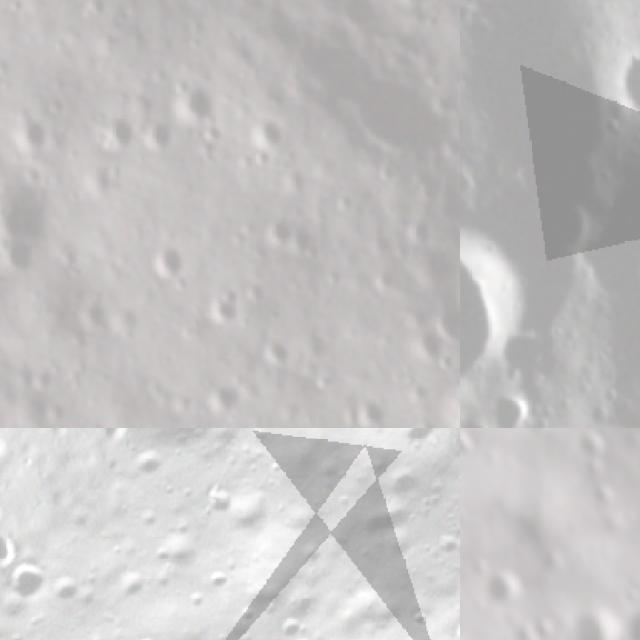crater: (304, 21, 460, 173), (460, 227, 535, 388), (0, 171, 66, 257), (207, 470, 281, 544), (349, 487, 418, 556), (370, 451, 429, 509), (0, 548, 54, 606), (11, 108, 68, 161), (100, 558, 152, 611), (190, 474, 240, 524), (612, 43, 640, 129), (252, 202, 295, 256), (150, 234, 196, 284), (70, 285, 112, 338), (240, 114, 286, 161), (194, 374, 240, 420), (38, 564, 84, 610), (94, 108, 134, 158), (203, 285, 244, 332), (342, 387, 389, 428), (126, 440, 170, 483), (259, 326, 296, 376), (567, 607, 623, 640), (489, 394, 543, 428), (414, 325, 451, 370), (289, 531, 329, 571), (400, 208, 438, 250), (486, 570, 525, 610), (178, 78, 210, 125), (137, 122, 175, 156), (428, 524, 460, 564), (570, 431, 614, 459), (269, 608, 306, 640), (201, 558, 235, 592), (436, 593, 460, 640), (402, 598, 434, 630), (385, 0, 442, 17), (368, 265, 397, 298), (530, 618, 561, 640), (460, 428, 477, 465), (460, 414, 503, 428), (516, 428, 550, 445), (283, 629, 320, 640)
